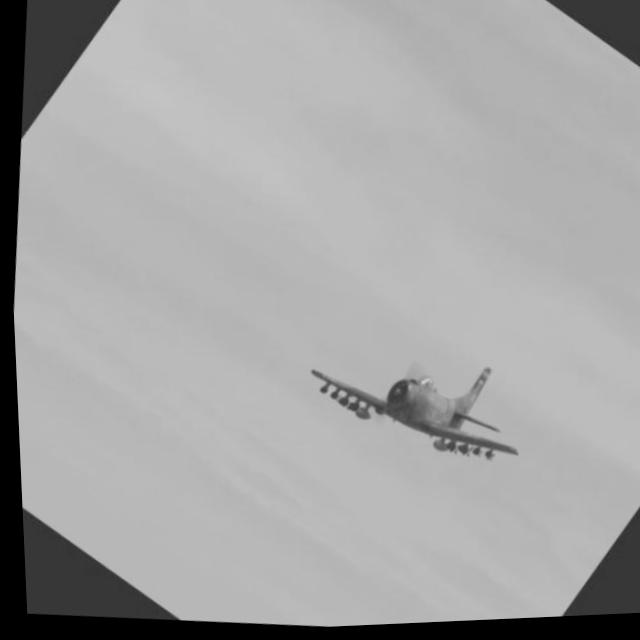aeroplane: (275, 271, 562, 539)
